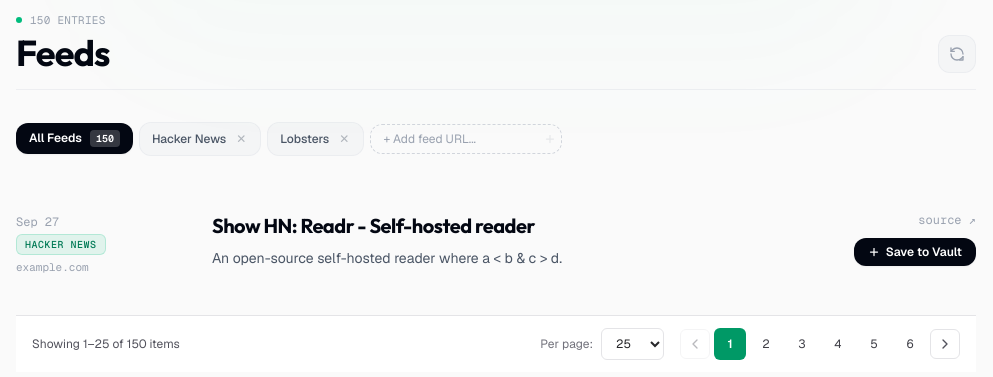
Test case: FeedsView.vue › navigates pages and updates timeline using server-side pagination envelope
Click the button named "Next page". click: (945, 344)
box: [930, 329, 960, 359]
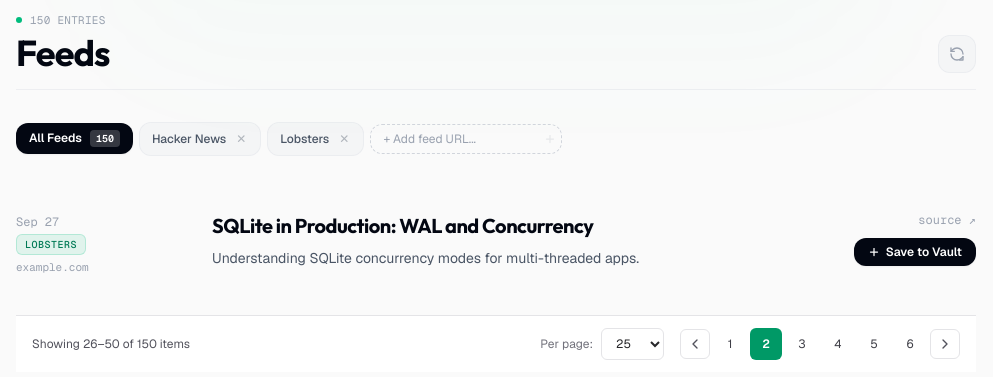
Result: the text "Showing 26–50 of 150 items" is shown at [32, 336, 190, 352]
